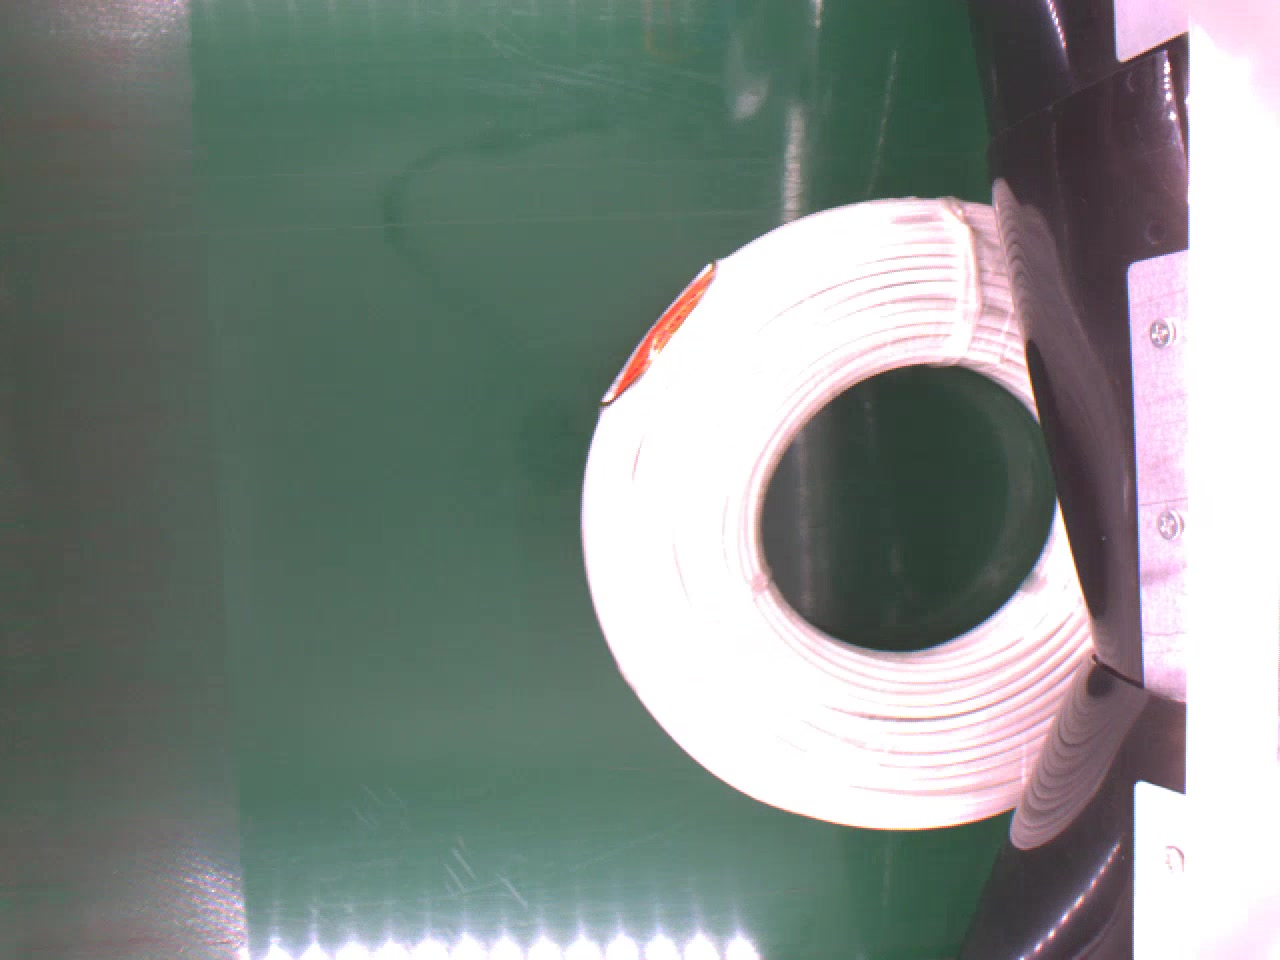white: (575, 191, 1099, 829)
